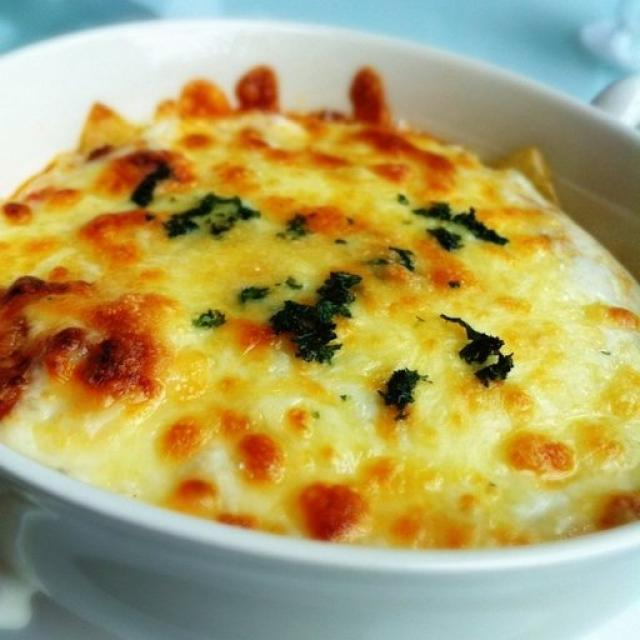Lasagna: (15, 102, 637, 550)
